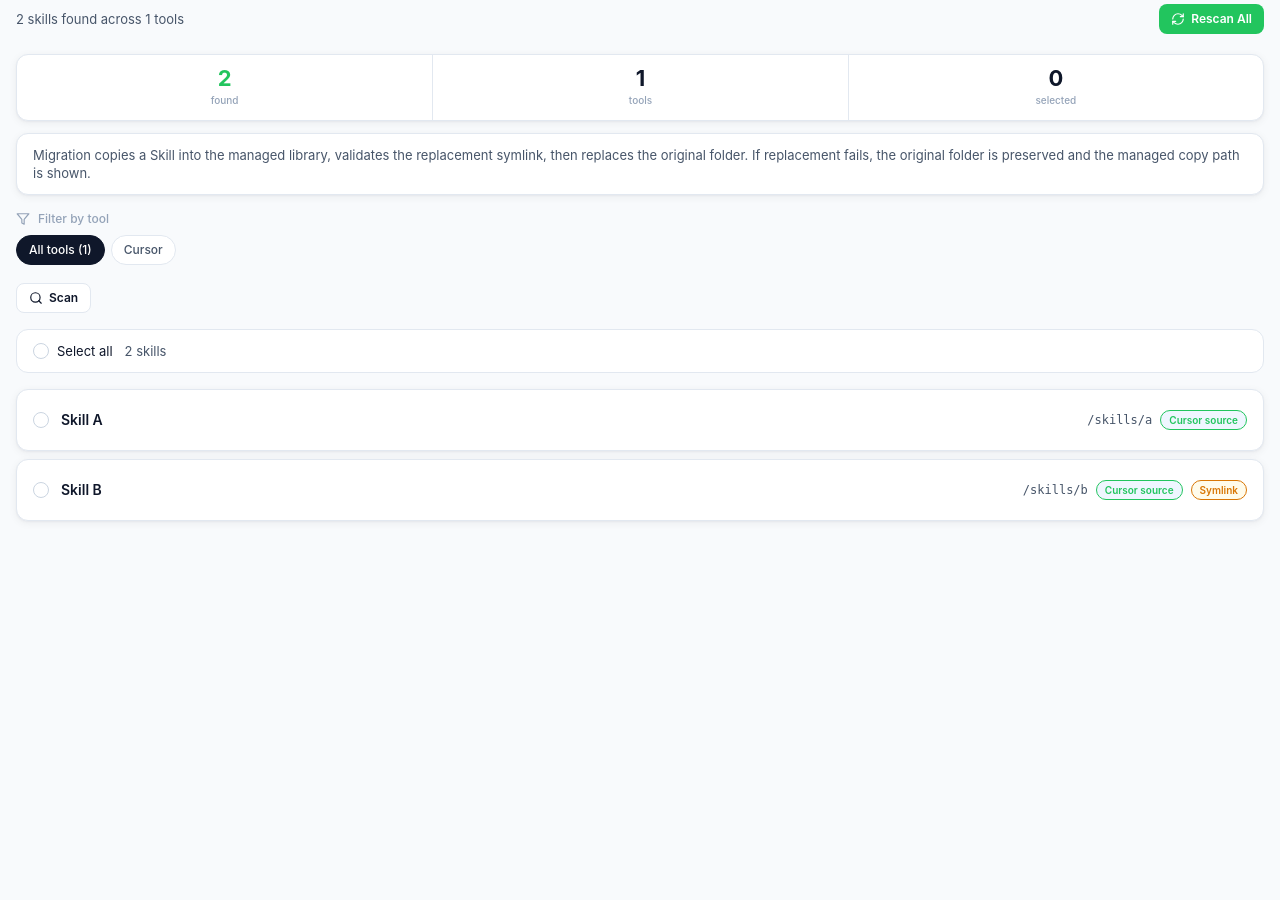
Test: MigratePage › shows blockers from migration preflight and skips blocked rows
Expected: the tab "Cursor" is shown, [111,235,176,265]
Expected: the text "Skill A" is shown, [61,411,103,428]
Step 1. Click the checkbox named "Select Skill A" → (41,420), box [33,412,49,428]
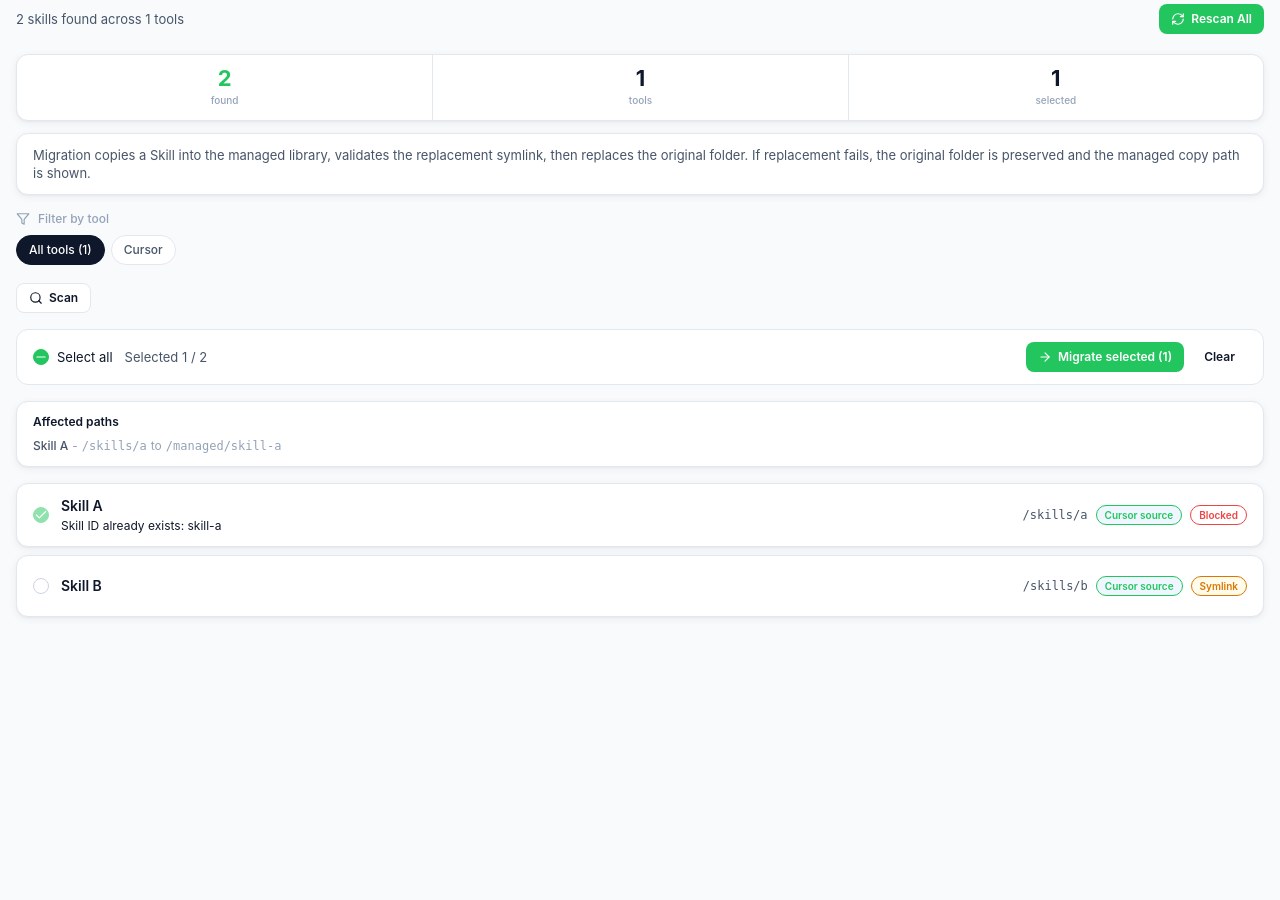
Step 2. Click the checkbox named "Select Skill B" → (41,586), box [33,578,49,594]
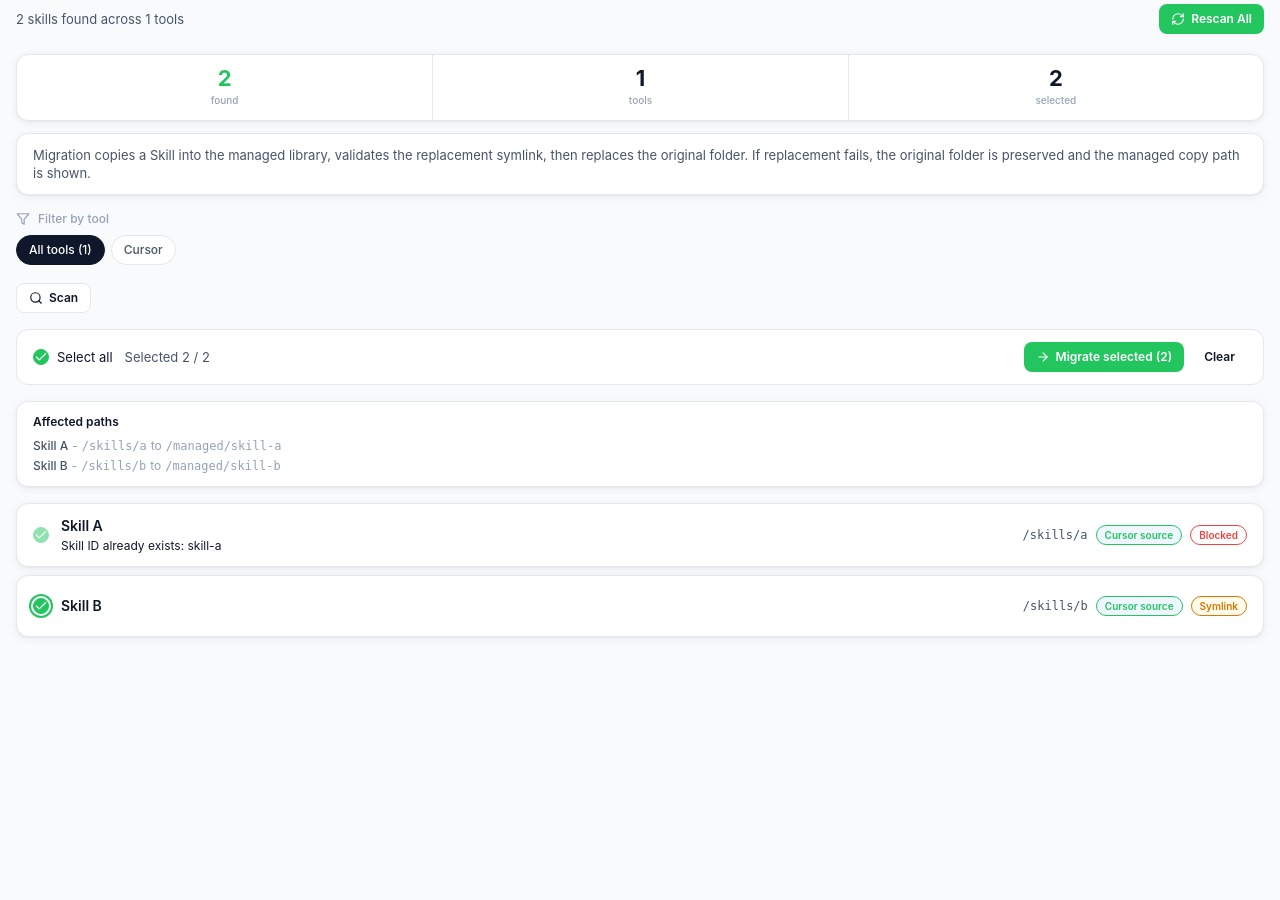
Now the text "Blocked" is shown, box [1190,525,1247,545]
Now the text "Skill ID already exists: skill-a" is shown, box [61,538,221,553]
Step 3. Click the button "Migrate selected (2)" → (1104,357), box [1024,342,1184,372]
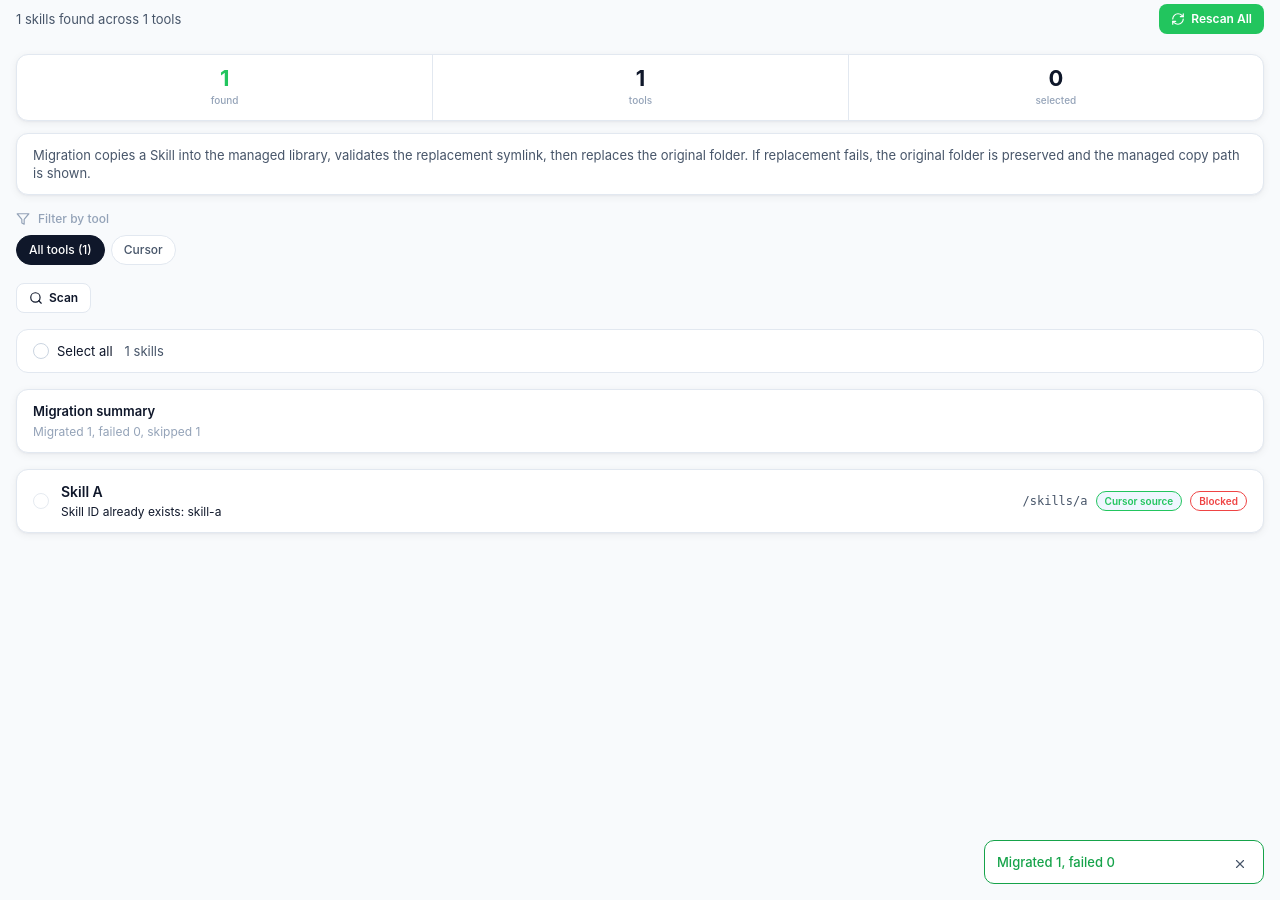
Expected: the text "Skill A" is shown, [61,483,103,500]
Now the text "Skill B" is gone
Now the text "Migrated 1, failed 0, skipped 1" is shown, box [33,424,200,439]
